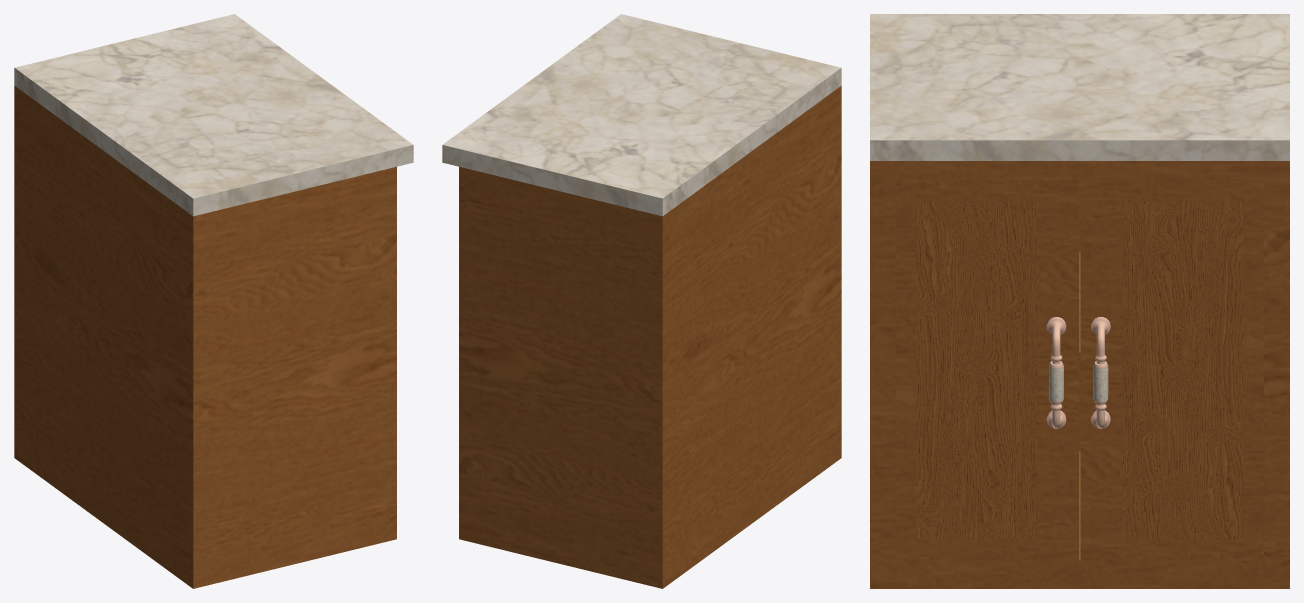
File: Cabinet_Shelf.fbx
3 renders of one model, left to right at view 1: azimuth 30°, elevation 25°; view 2: azimuth 150°, elevation 25°; view 3: azimuth 270°, elevation 25°, orthographic. The views are drawn at different scales.
Visible parts, largest first — view 1: pCube18, Cover_Middle10; view 2: pCube18, Cover_Middle10; view 3: pCube187, pCube21, Cover_Middle10, pCube18, pCylinder102, pCylinder89.
Boxes of the visible parts, <box> form: pCube18: <box>14,86,396,588</box>; Cover_Middle10: <box>14,14,413,216</box>; pCube18: <box>459,86,841,588</box>; Cover_Middle10: <box>442,14,841,216</box>; pCube187: <box>1080,180,1263,560</box>; pCube21: <box>895,180,1078,560</box>; Cover_Middle10: <box>870,14,1289,160</box>; pCube18: <box>870,161,1289,588</box>; pCylinder102: <box>1091,317,1110,428</box>; pCylinder89: <box>1046,317,1066,428</box>.
Bounding box in the file's own units: 0.618 × 1 × 0.832.
